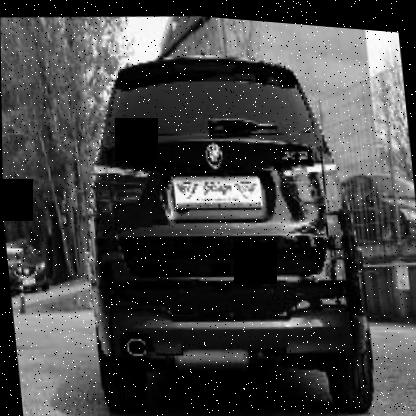not_emergency: (57, 21, 398, 415)
